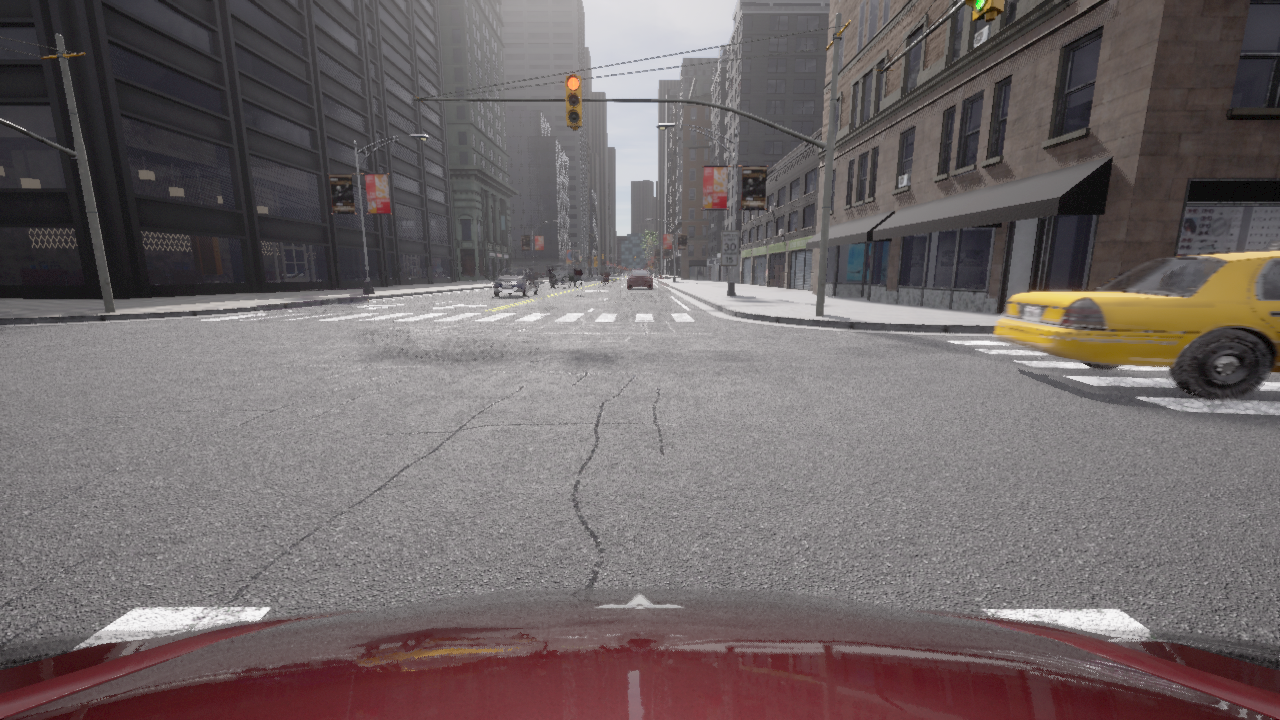cyclist: (0, 588, 1279, 719), (994, 240, 1279, 401), (493, 267, 538, 296), (549, 264, 574, 287), (628, 270, 651, 288), (576, 281, 582, 295), (603, 276, 607, 285)
